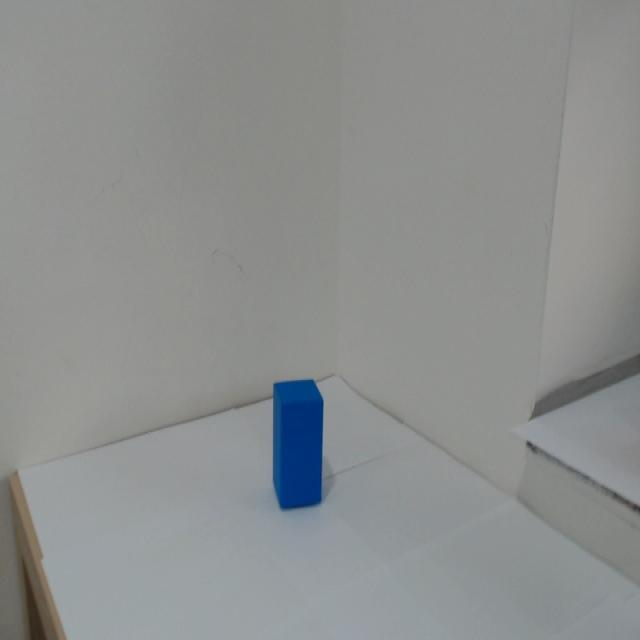cube: (249, 358, 328, 565)
